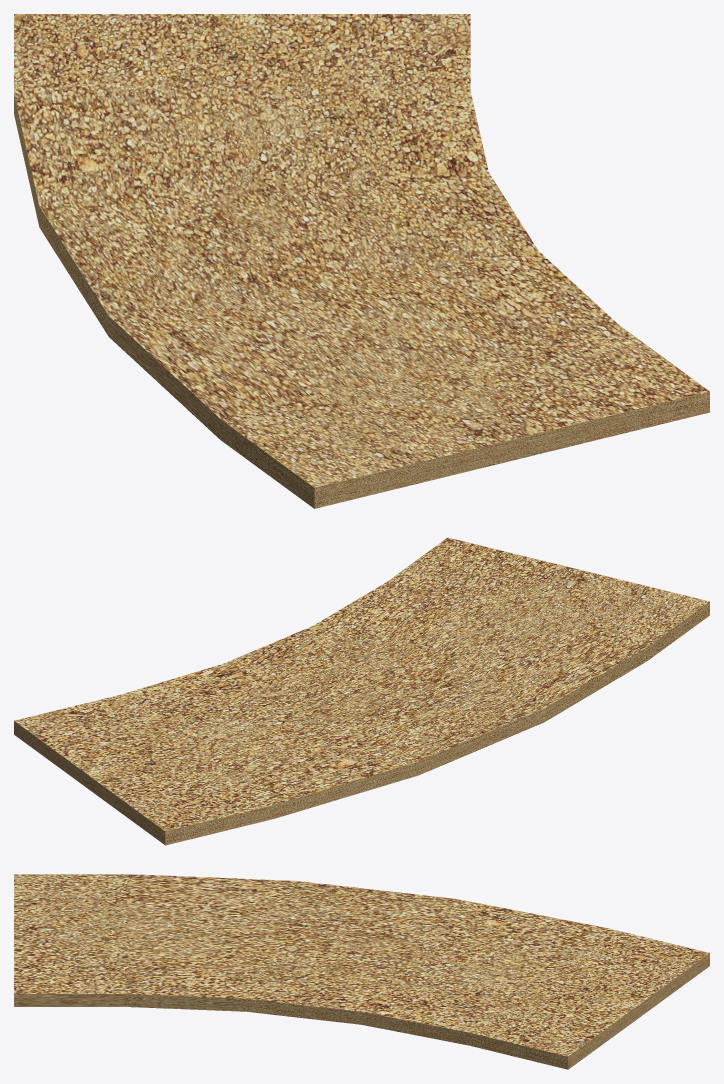
File: RoadRight.fbx
The picture shows the model from 3 angles, top to bottom: view 1: azimuth 30°, elevation 25°; view 2: azimuth 150°, elevation 25°; view 3: azimuth 270°, elevation 25°; orthographic projection. The views are drawn at different scales.
Parts seen in each view (by area): view 1: RoadRight; view 2: RoadRight; view 3: RoadRight.
Part boxes in pixels (bbox=[...]): RoadRight: bbox=[14, 14, 709, 508]; RoadRight: bbox=[14, 537, 709, 845]; RoadRight: bbox=[14, 874, 709, 1069].
Bounding box in the file's own units: 305 × 10.15 × 491.
1 material, 1 textured.
